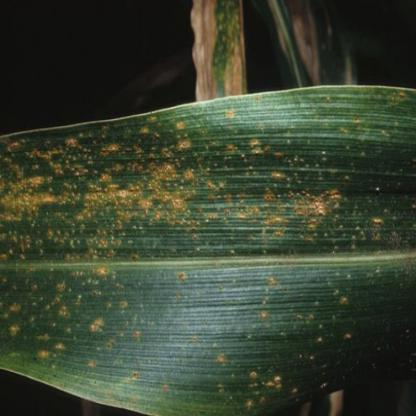corn rust leaf: (1, 91, 413, 415)
